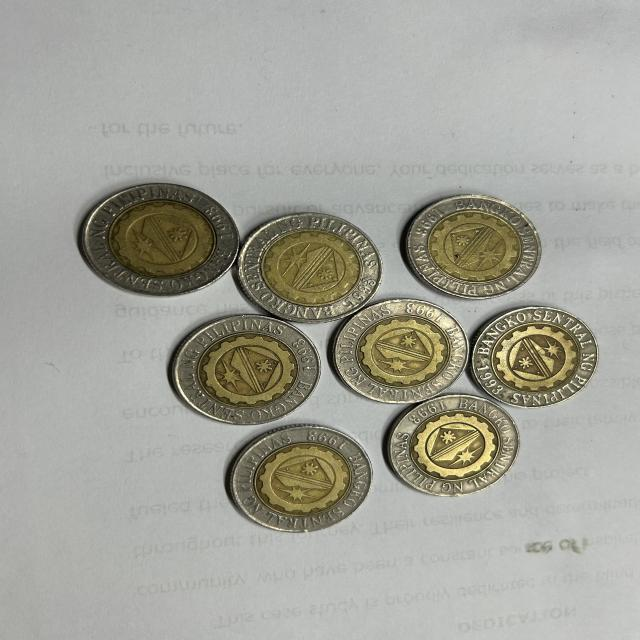10_Old_Back: (155, 307, 312, 422), (72, 184, 232, 286), (241, 210, 383, 324), (379, 396, 522, 502), (400, 193, 543, 296), (236, 427, 374, 522), (473, 307, 601, 407), (333, 303, 455, 391)
